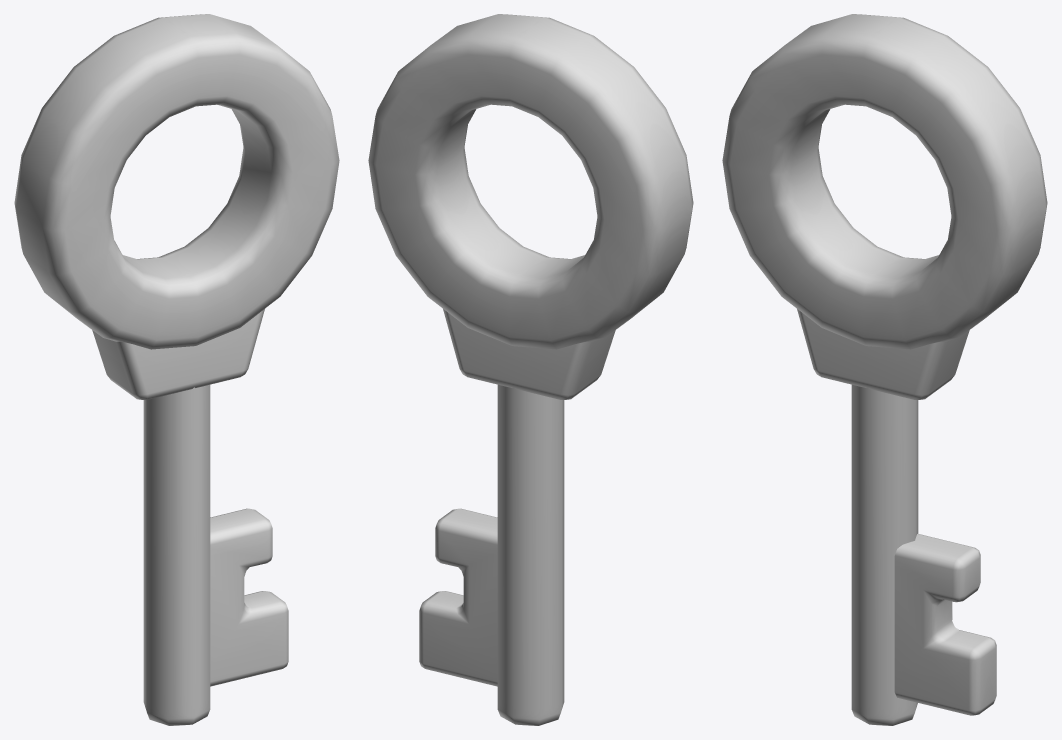
The model's file is ChiaKhoa2_fbx.fbx.
The picture shows the model from 3 angles, left to right: view 1: azimuth 30°, elevation 25°; view 2: azimuth 150°, elevation 25°; view 3: azimuth 330°, elevation 25°; orthographic projection.
Parts seen in each view (by area): view 1: ChiaKhoa2_mesh; view 2: ChiaKhoa2_mesh; view 3: ChiaKhoa2_mesh.
Boxes of the visible parts, box(x1,y1,x2,y2) form: ChiaKhoa2_mesh: box(14, 14, 339, 725); ChiaKhoa2_mesh: box(368, 14, 693, 725); ChiaKhoa2_mesh: box(722, 14, 1047, 725).
Bounding box in the file's own units: 0.4 × 0.8902 × 0.1.
Materials: 1 (1 with a texture image).
